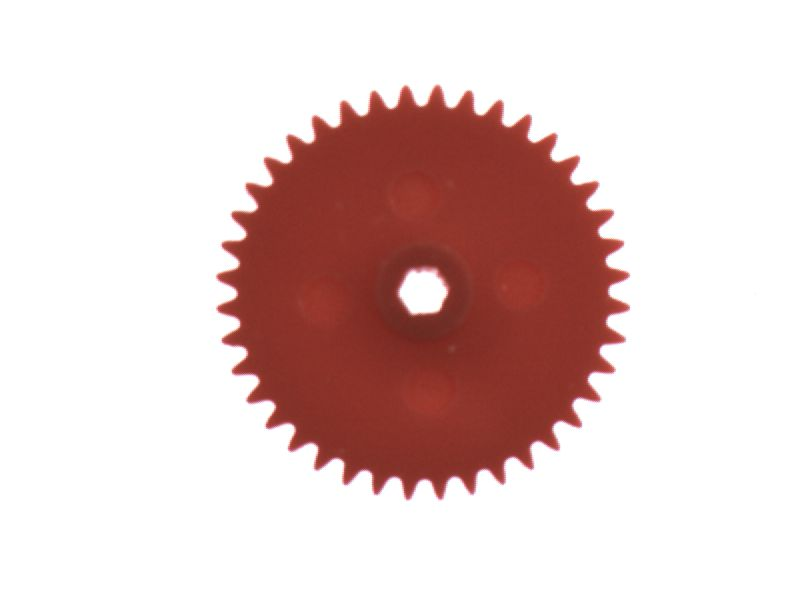good_product: (201, 69, 644, 508)
